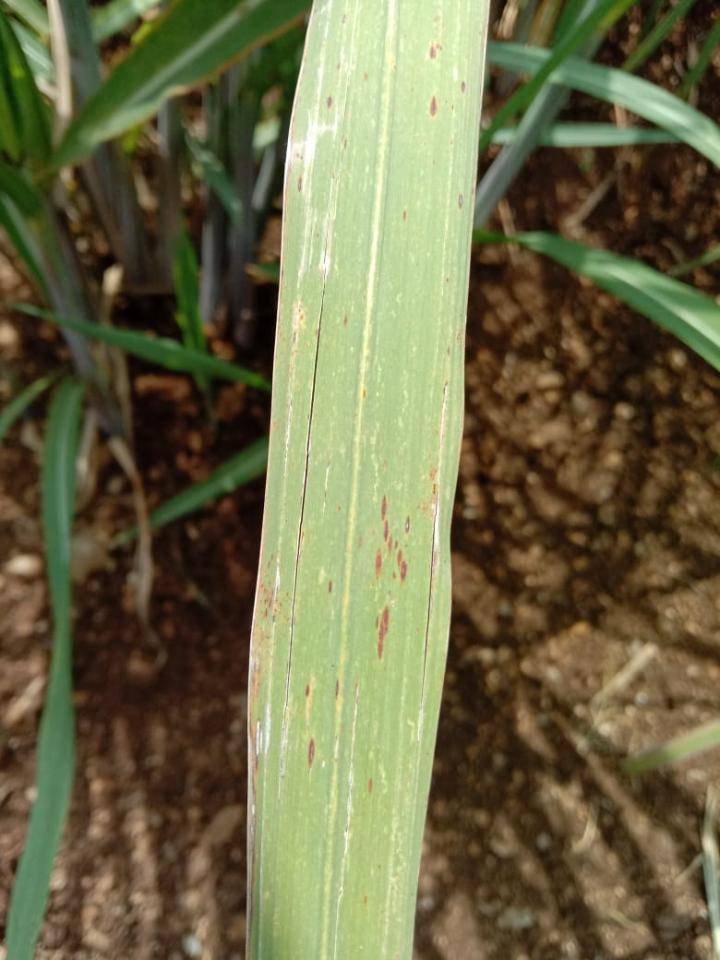Rust: (247, 624, 272, 704), (259, 582, 282, 623), (381, 494, 393, 552), (378, 605, 388, 662), (396, 549, 407, 582), (375, 546, 382, 578), (430, 44, 443, 60), (308, 738, 314, 768), (429, 96, 437, 116), (267, 553, 274, 570), (355, 681, 359, 705), (335, 678, 339, 700), (458, 192, 463, 209), (405, 515, 409, 533), (327, 96, 333, 108), (298, 177, 302, 192), (342, 14, 348, 23), (306, 683, 310, 696), (375, 616, 379, 629), (433, 482, 437, 495), (461, 81, 465, 93), (369, 778, 372, 793), (403, 210, 407, 221), (329, 579, 332, 593), (391, 572, 397, 579), (394, 539, 398, 549), (344, 314, 348, 324), (363, 73, 368, 80), (344, 138, 347, 149), (363, 388, 366, 399), (338, 505, 341, 512), (337, 63, 340, 69), (452, 104, 454, 111)
